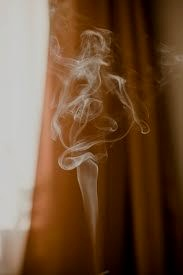smoke: (48, 17, 127, 179)
